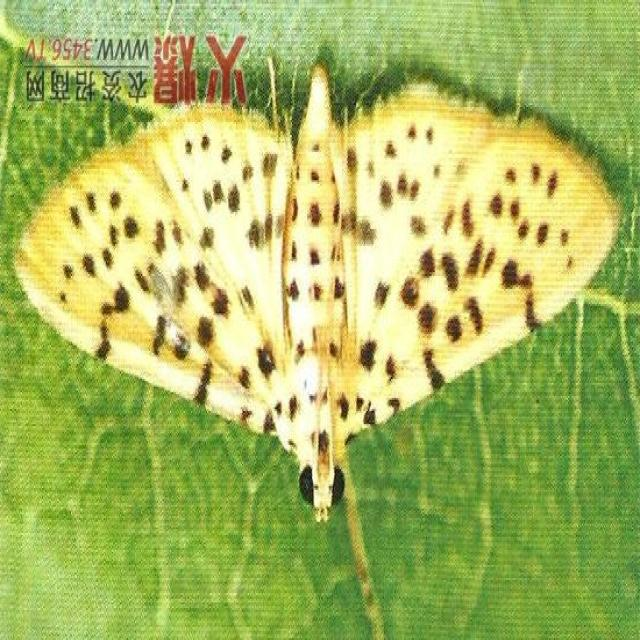peach borer: (10, 43, 630, 527)
